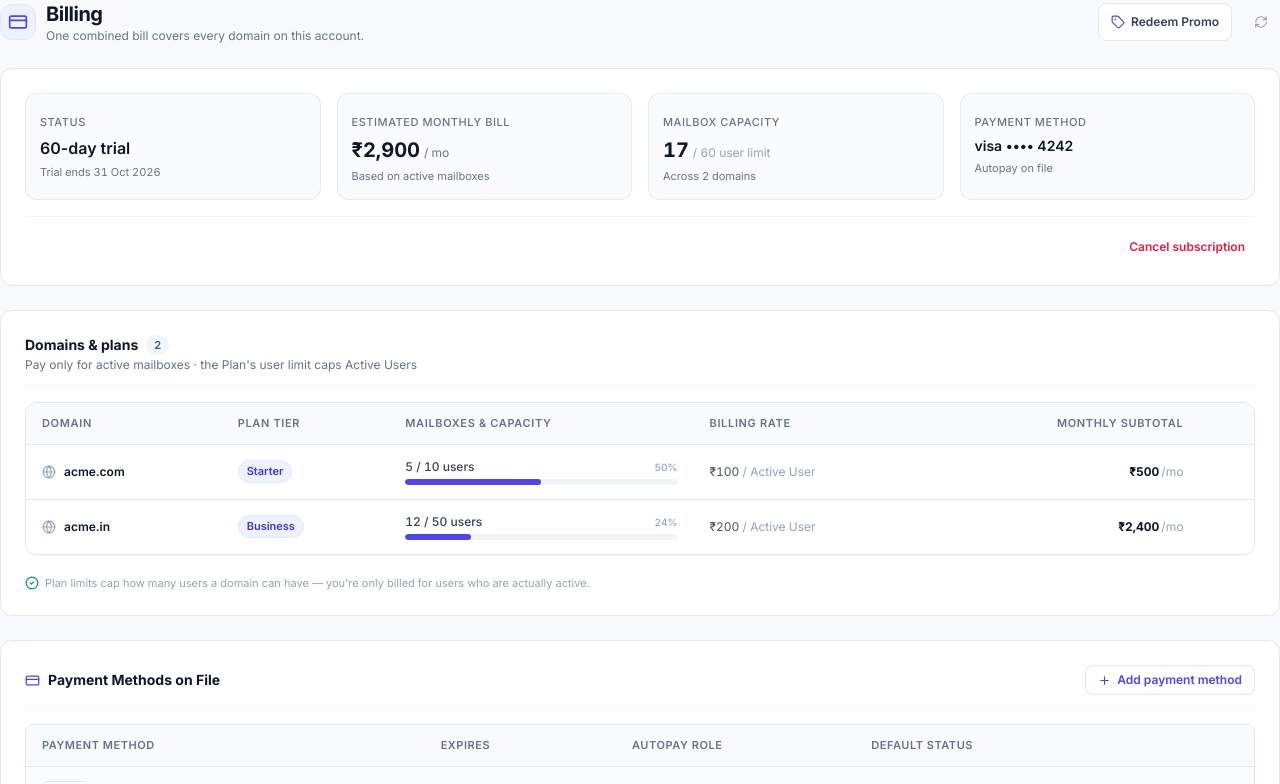
Scenario: BillingView (company-wide) › shows the error when cancelling fails
Click the button "Cancel subscription" at (1187, 246), box [1119,232,1255,260]
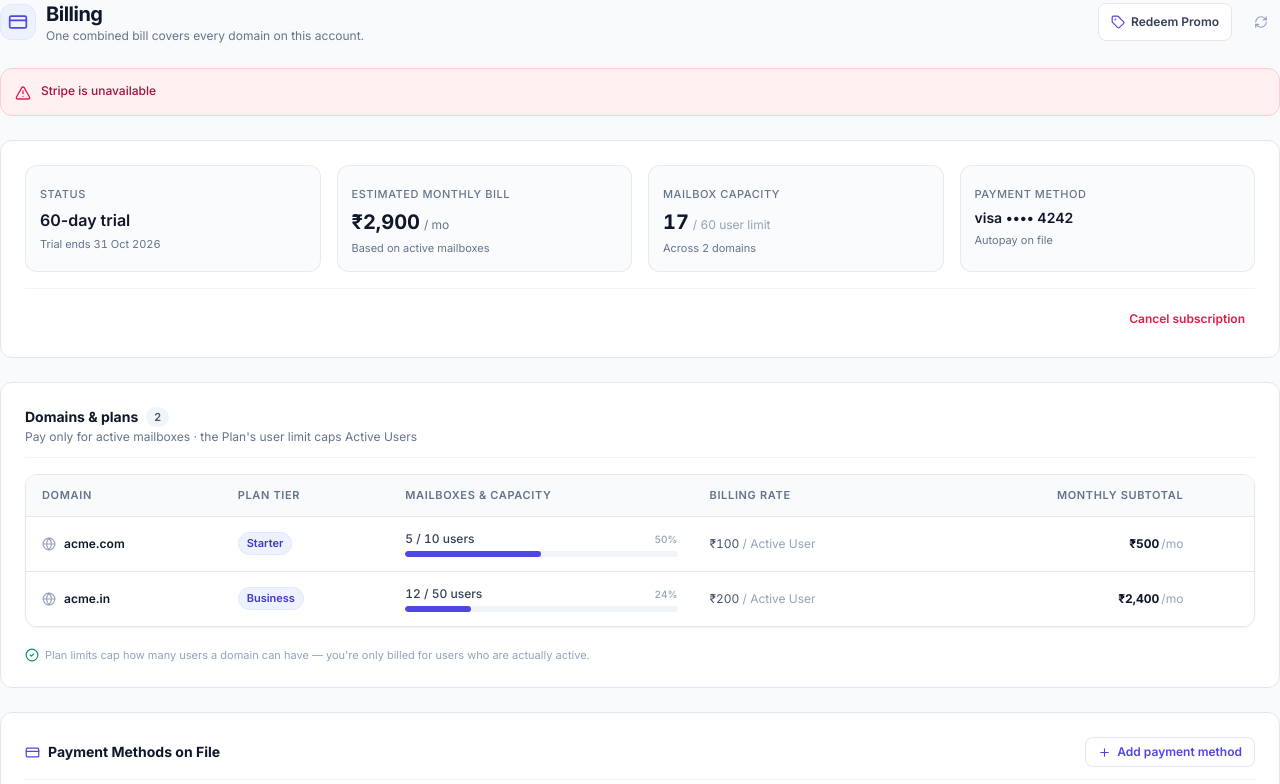
Result: the text "Stripe is unavailable" is shown at [41,83,156,98]
